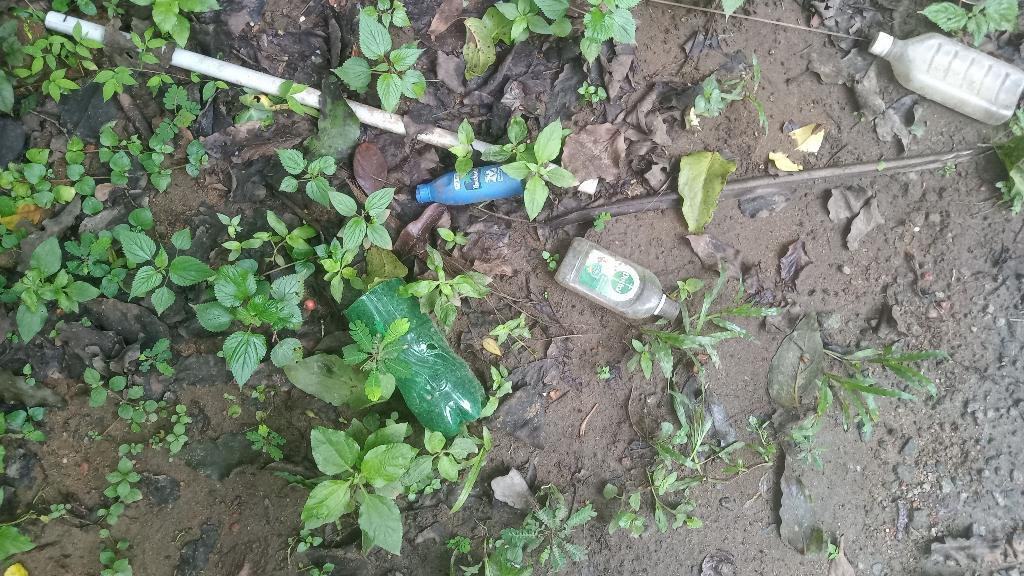garbage: (334, 266, 504, 445), (859, 22, 1024, 131), (549, 235, 686, 336), (411, 161, 527, 210)
